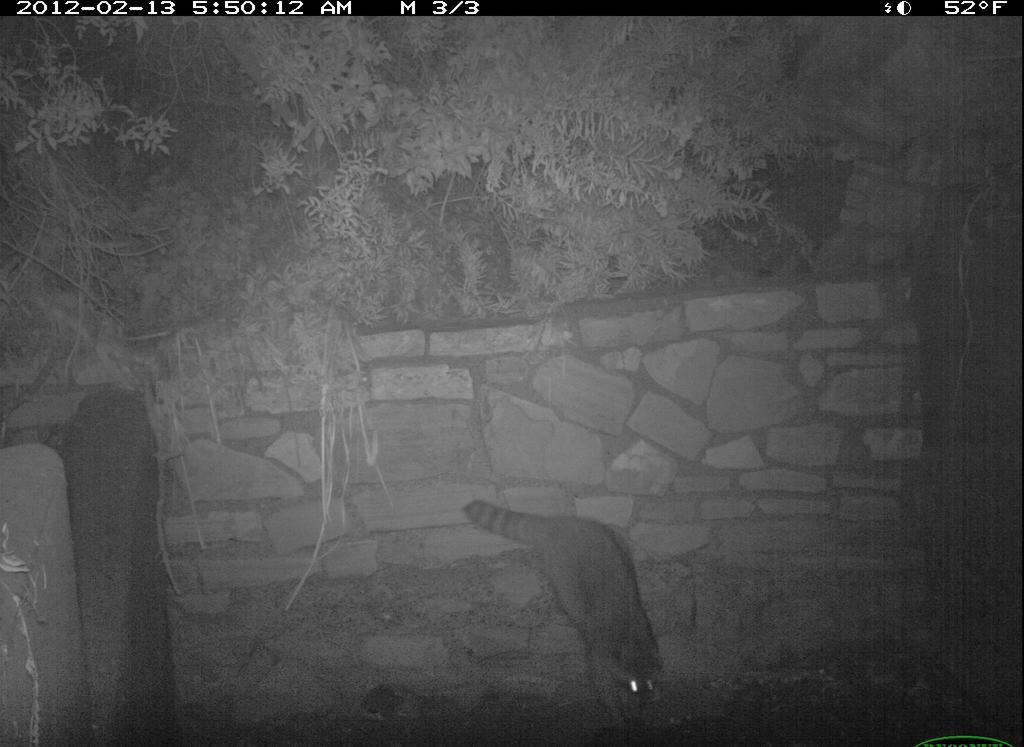raccoon: (456, 492, 673, 731)
